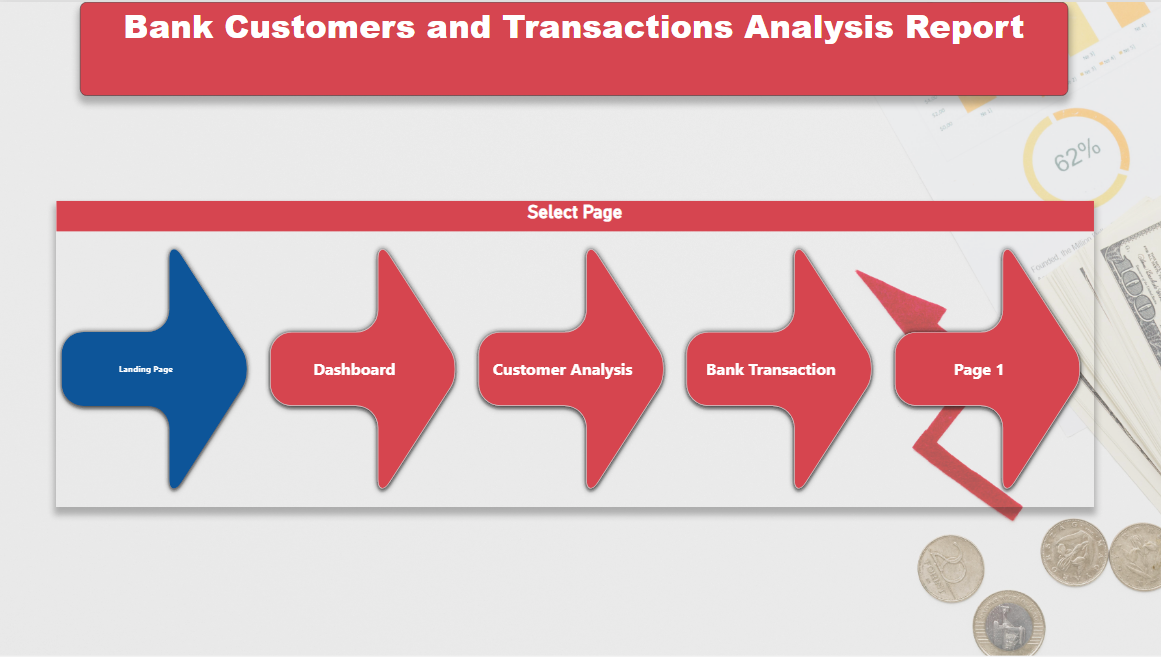

This screenshot's page, from the dashboard's own definition file:
{"tool":"powerbi","page":{"name":"Landing Page","canvas":[1920,1080],"ordinal":0},"visuals":[{"type":"textbox","box":[131.8,0,1627.3,154.5],"z":0},{"type":"pageNavigator","title":"Select Page","box":[93.2,327.3,1745.5,468.2],"z":1000}]}

Visuals, with their boxes in screenshot pixels (x1, y1, x2, y2), scaled from the page's 1920x1080 canvas onto the 1161x657 screenshot:
textbox: crop(80, 0, 1064, 94)
"Select Page" pageNavigator: crop(56, 199, 1112, 484)
